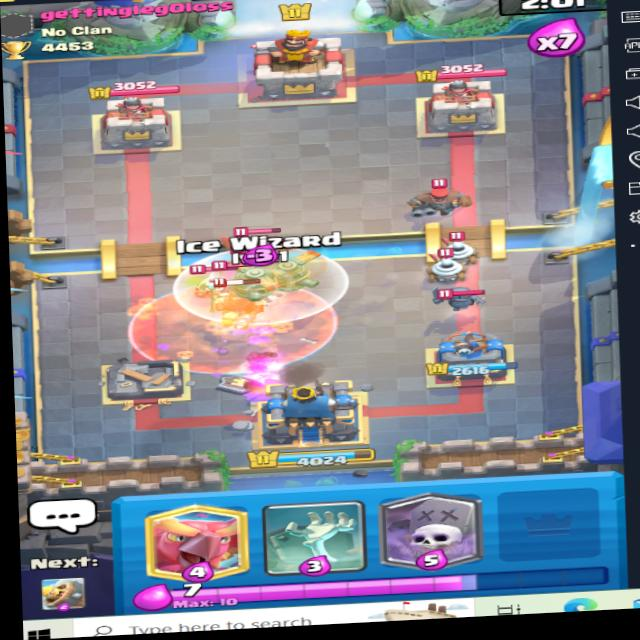dark-prince: (203, 278, 269, 338)
flying-machine: (242, 238, 316, 298)
hunter: (404, 168, 470, 220)
inferno-dragon: (228, 221, 293, 278)
mini-pekka: (434, 276, 489, 309)
zappie: (416, 241, 473, 279), (425, 233, 483, 264)
